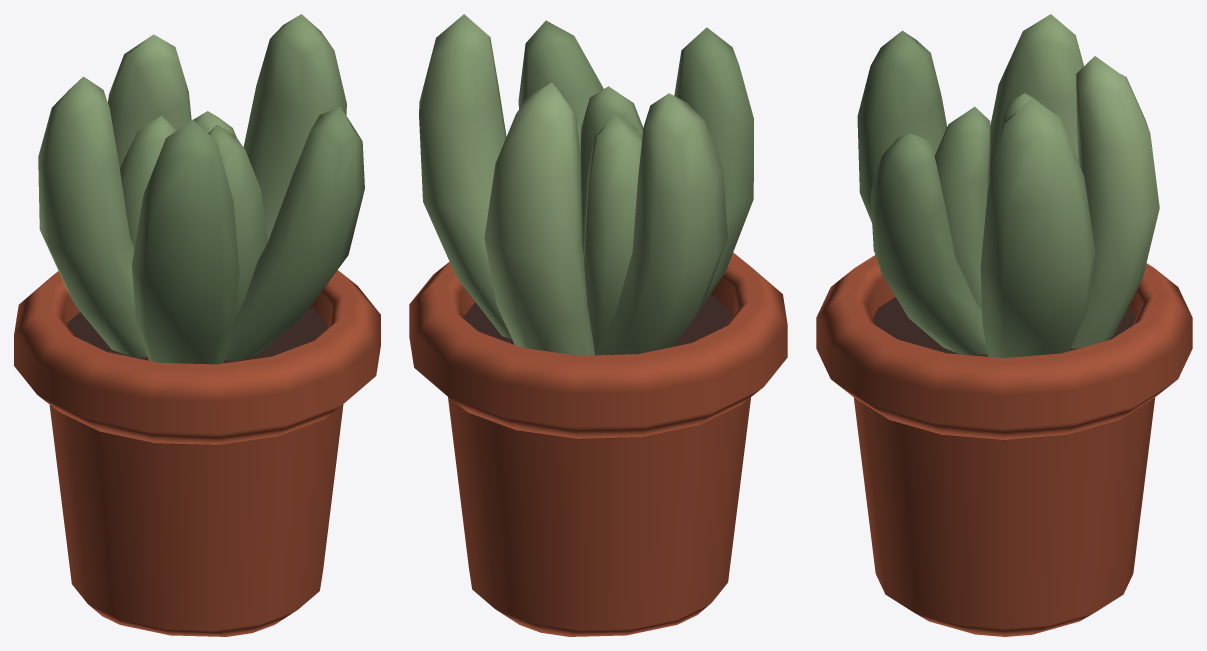
File: MD_CozyShops_PottedPlant.fbx
3 views of the same model, side by side, from view 1: azimuth 30°, elevation 25°; view 2: azimuth 150°, elevation 25°; view 3: azimuth 270°, elevation 25° (orthographic). The views are drawn at different scales.
Parts seen in each view (by area): view 1: SM_CozyShops_PottedPlant; view 2: SM_CozyShops_PottedPlant; view 3: SM_CozyShops_PottedPlant.
Part boxes in pixels (left/top/right/bottom): SM_CozyShops_PottedPlant: left=14, top=14, right=380, bottom=636; SM_CozyShops_PottedPlant: left=409, top=14, right=787, bottom=636; SM_CozyShops_PottedPlant: left=816, top=14, right=1192, bottom=636.
Size of the model in its own units: 0.1504 by 0.2423 by 0.1504.
